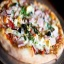pizza: (1, 1, 62, 63)
